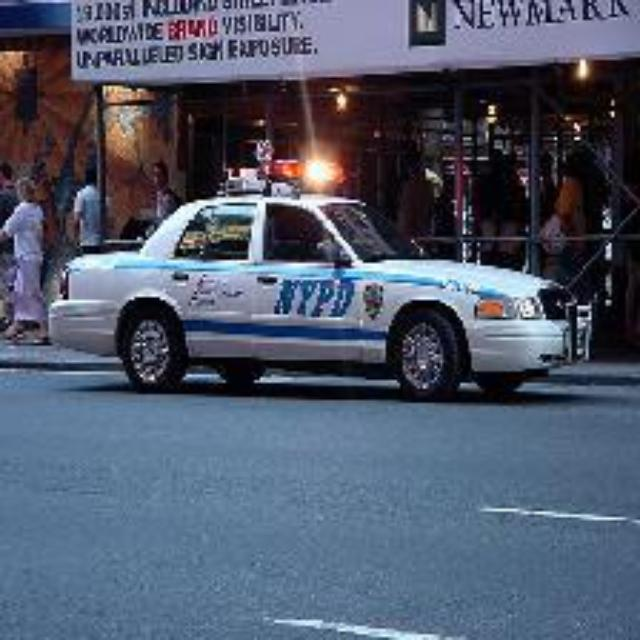emergency: (47, 184, 587, 396)
